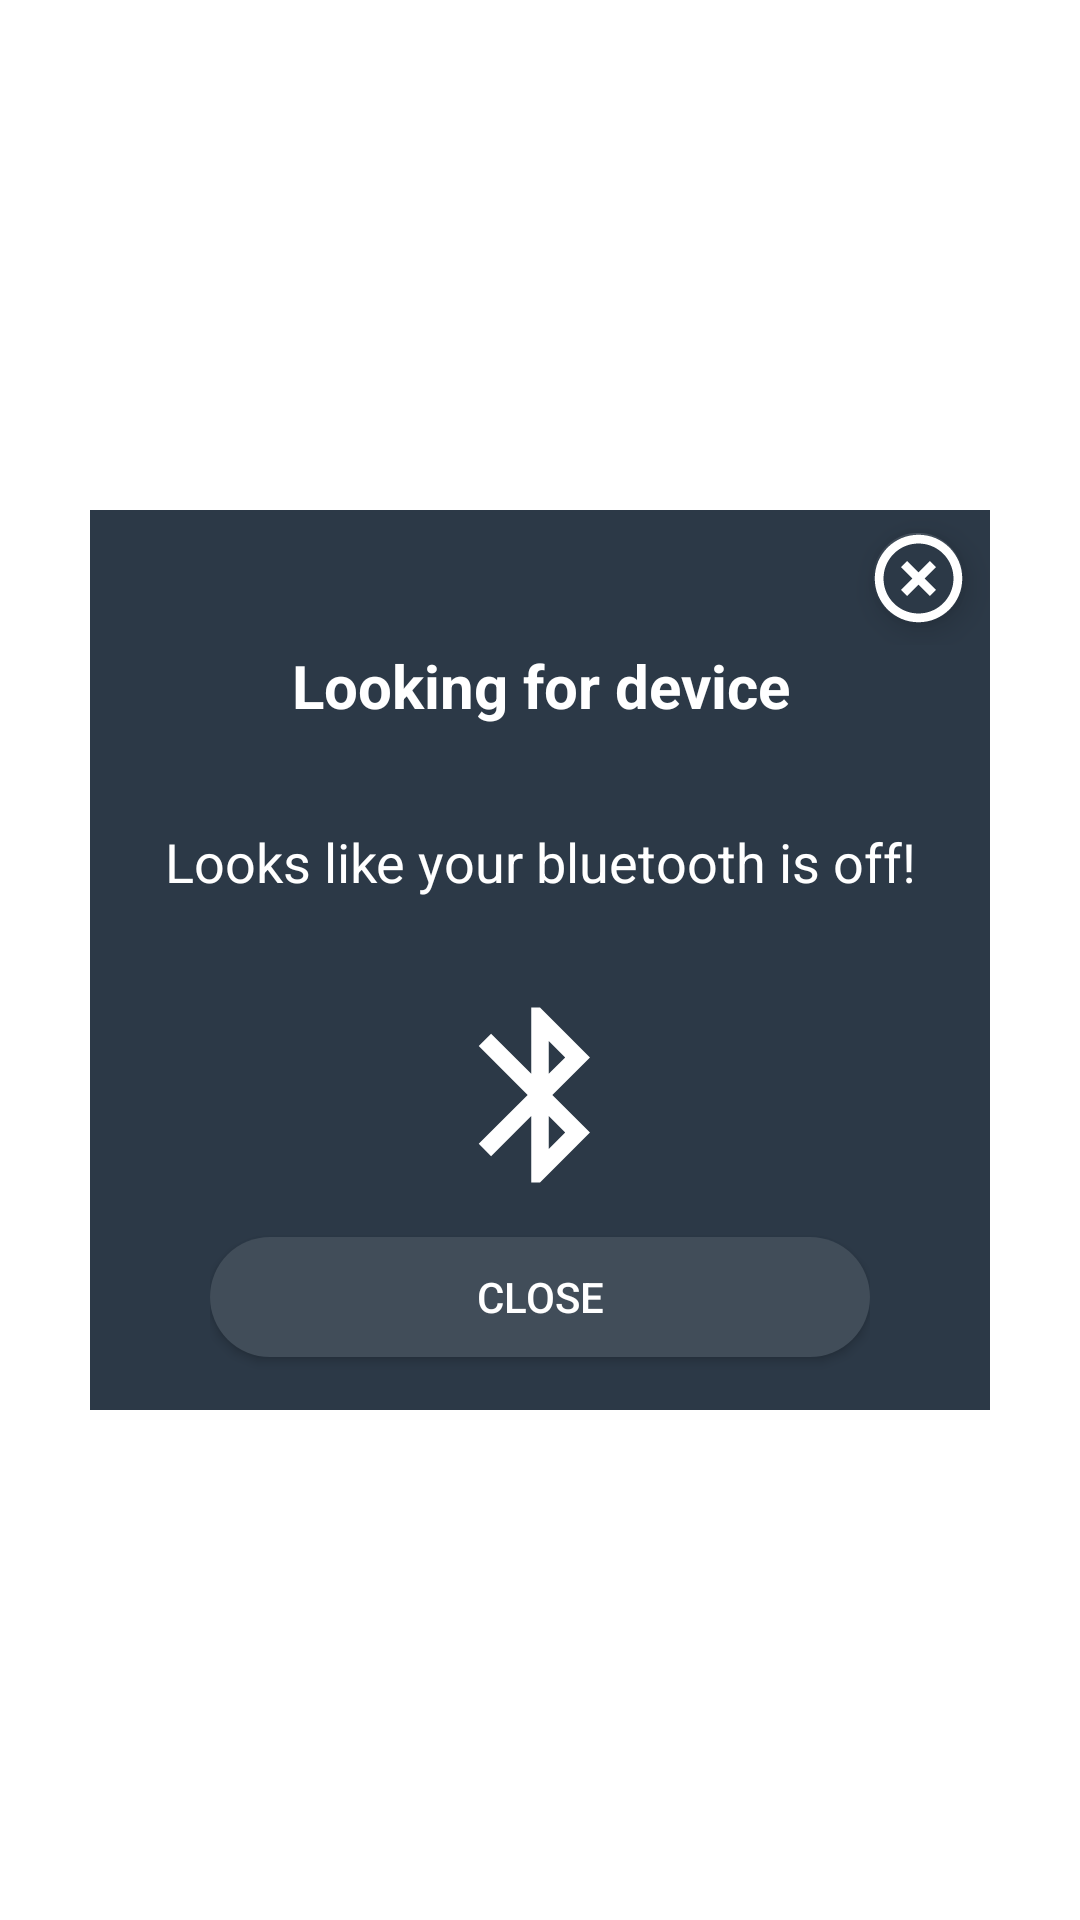

Where icons sit on this 1080*1920 app screen, as (x1, y1, x2, y2):
cancel: (874, 533, 963, 623)
